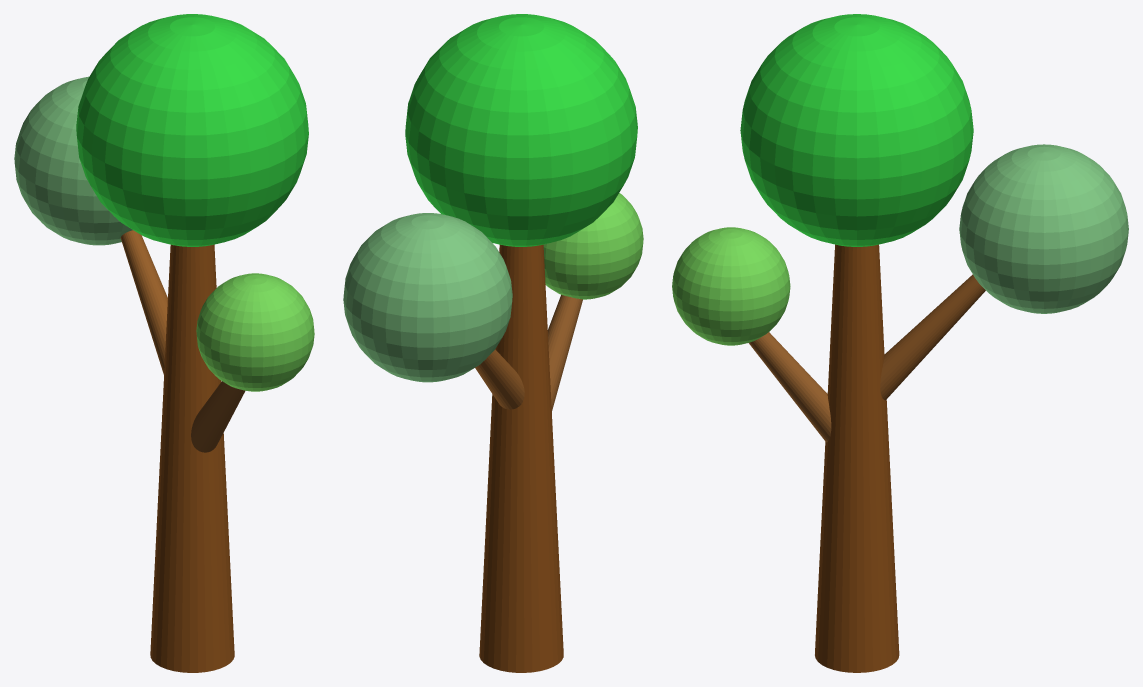
Rendered from tree2.fbx.
3 renders of one model, left to right at view 1: azimuth 30°, elevation 25°; view 2: azimuth 150°, elevation 25°; view 3: azimuth 270°, elevation 25°, orthographic.
Visible parts, largest first — view 1: tree2_leaves1, tree2_trunk1, tree2_leaves2, tree2_leaves3, tree2_trunk3, tree2_trunk2; view 2: tree2_leaves1, tree2_trunk1, tree2_leaves3, tree2_leaves2, tree2_trunk2, tree2_trunk3; view 3: tree2_leaves1, tree2_trunk1, tree2_leaves3, tree2_leaves2, tree2_trunk3, tree2_trunk2.
Boxes of the visible parts, box(x1,y1,x2,y2) form: tree2_leaves1: box(76, 14, 308, 246); tree2_trunk1: box(150, 244, 234, 672); tree2_leaves2: box(196, 273, 314, 391); tree2_leaves3: box(14, 76, 132, 245); tree2_trunk3: box(120, 230, 167, 374); tree2_trunk2: box(191, 381, 245, 452); tree2_leaves1: box(405, 14, 637, 246); tree2_trunk1: box(479, 244, 563, 672); tree2_leaves3: box(343, 213, 512, 382); tree2_leaves2: box(543, 193, 643, 299); tree2_trunk2: box(547, 295, 582, 411); tree2_trunk3: box(475, 349, 524, 409); tree2_leaves1: box(740, 14, 973, 246); tree2_trunk1: box(815, 244, 899, 672); tree2_leaves3: box(959, 144, 1128, 313); tree2_leaves2: box(672, 227, 790, 345); tree2_trunk3: box(880, 274, 985, 400); tree2_trunk2: box(749, 332, 831, 442).
Size of the model in its own units: 534 by 1592 by 1046.
